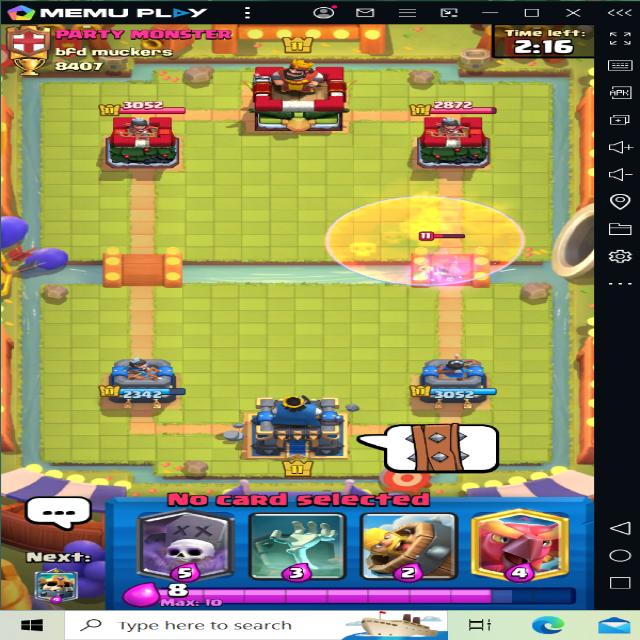archer-queen: (414, 230, 474, 283)
archer-queen-ability: (415, 231, 472, 286)
